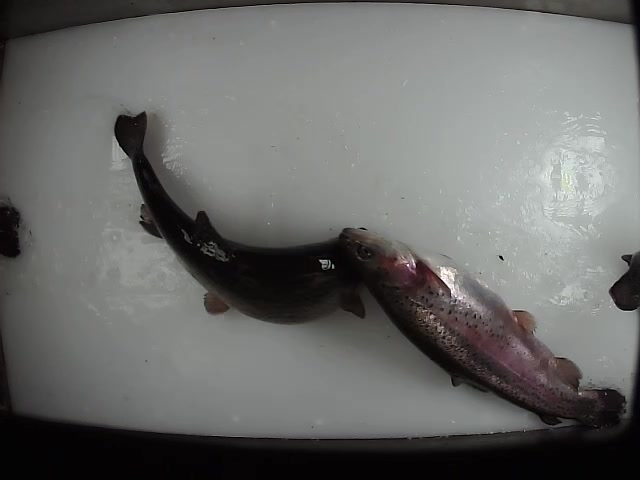fish: (339, 224, 628, 429), (112, 109, 372, 321)
